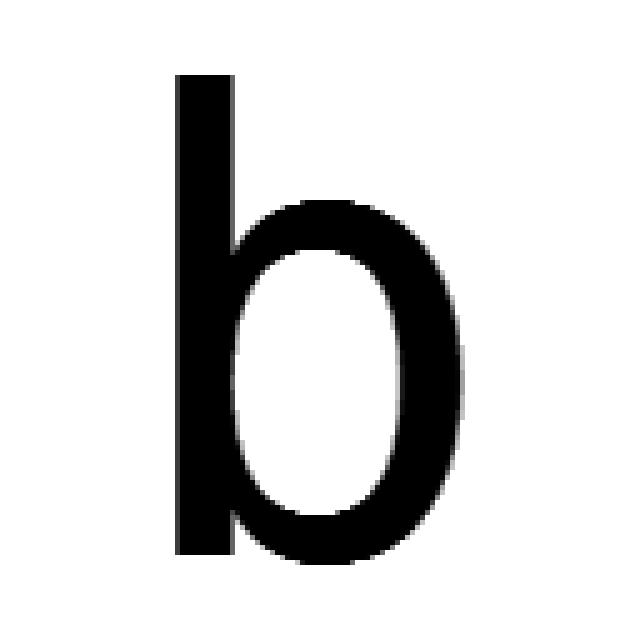B: (175, 75, 465, 570)
